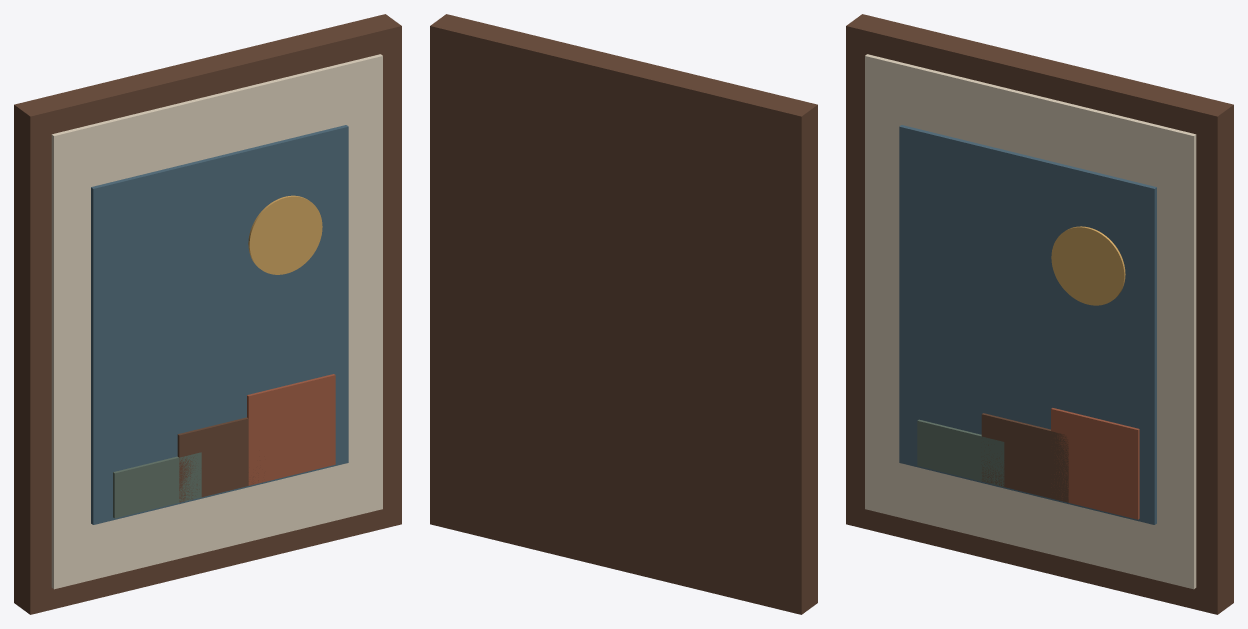
Rendered from framed_print.glb.
The picture shows the model from 3 angles, left to right: view 1: azimuth 30°, elevation 25°; view 2: azimuth 150°, elevation 25°; view 3: azimuth 330°, elevation 25°; orthographic projection.
Visible parts, largest first — view 1: Blue print, Paper mat, Wooden frame, Landscape band.002, Printed sun, Landscape band.001, Landscape band; view 2: Wooden frame; view 3: Blue print, Paper mat, Wooden frame, Landscape band.002, Landscape band.001, Printed sun, Landscape band.
Part boxes in pixels (box(x1,y1,x2,y2)): Blue print: box(91, 125, 348, 524); Paper mat: box(51, 54, 382, 589); Wooden frame: box(14, 14, 401, 614); Landscape band.002: box(247, 374, 335, 485); Printed sun: box(248, 195, 322, 274); Landscape band.001: box(177, 417, 258, 502); Landscape band: box(113, 452, 201, 518); Wooden frame: box(430, 14, 817, 614); Blue print: box(899, 125, 1156, 524); Paper mat: box(865, 54, 1196, 589); Wooden frame: box(846, 14, 1233, 614); Landscape band.002: box(1051, 408, 1139, 519); Landscape band.001: box(981, 413, 1068, 502); Printed sun: box(1051, 226, 1125, 305); Landscape band: box(917, 419, 1004, 486).
Bounding box in the file's own units: 0.525 × 0.673 × 0.057.
